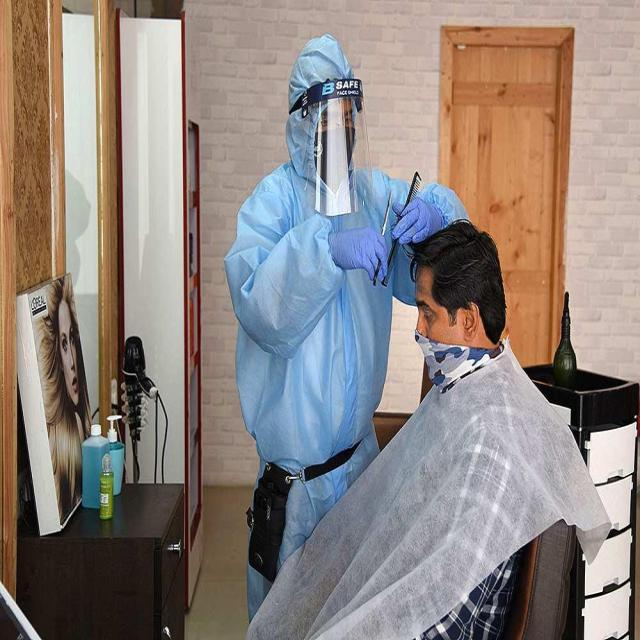Coverall: (240, 41, 431, 605)
Gloves: (321, 209, 404, 291), (382, 203, 458, 254)
Mask: (313, 126, 351, 195)
